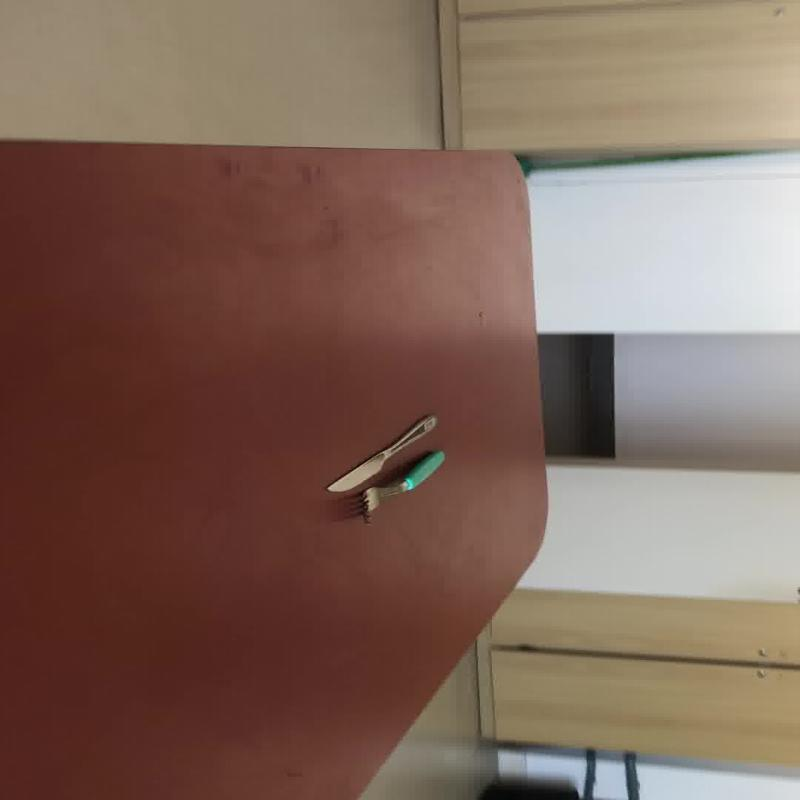fork: (354, 448, 446, 524)
knife: (322, 412, 438, 494)
